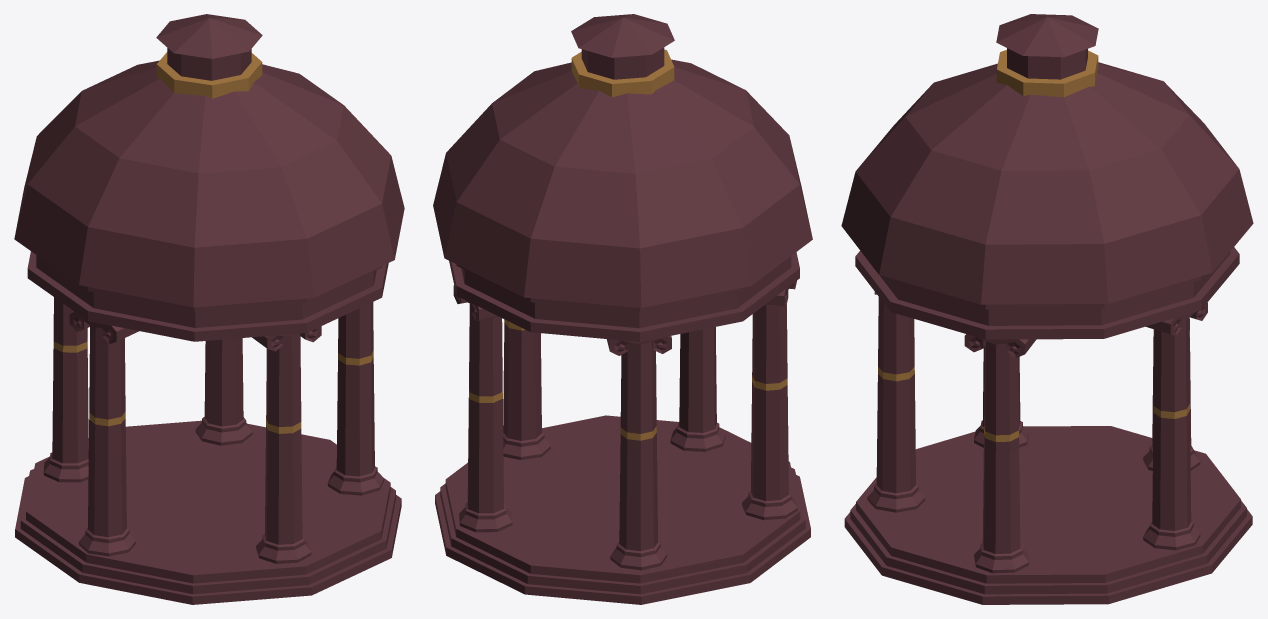
Rendered from SM_Atrium_Empire.fbx.
3 renders of one model, left to right at view 1: azimuth 30°, elevation 25°; view 2: azimuth 150°, elevation 25°; view 3: azimuth 270°, elevation 25°, orthographic.
Parts seen in each view (by area): view 1: SM_Atrium_Empire; view 2: SM_Atrium_Empire; view 3: SM_Atrium_Empire.
Part boxes in pixels (left/top/right/bottom): SM_Atrium_Empire: left=14, top=14, right=404, bottom=604; SM_Atrium_Empire: left=433, top=14, right=812, bottom=604; SM_Atrium_Empire: left=841, top=14, right=1253, bottom=604.
Size of the model in its own units: 6.79 by 10.09 by 7.4.
